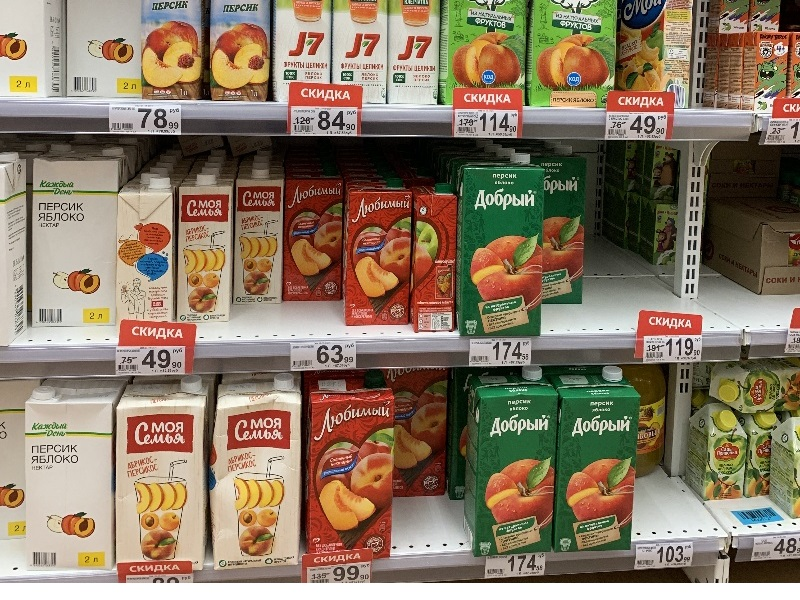juice: (463, 367, 565, 559), (298, 368, 399, 561), (549, 366, 647, 559), (456, 151, 547, 340), (337, 177, 419, 335), (272, 165, 352, 303)
